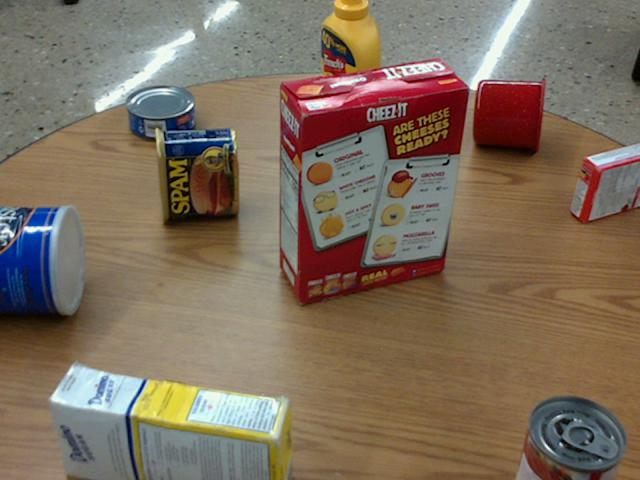cracker_box: (278, 57, 468, 302)
gelatin_box: (571, 144, 639, 223)
master_chef_can: (0, 204, 86, 313)
mug: (473, 75, 544, 151)
mustard_bottle: (319, 0, 378, 144)
potted_meat_can: (154, 126, 237, 220)
sugar_box: (45, 366, 291, 479)
tomato_soup_can: (516, 393, 626, 479)
tuna_fish_can: (126, 83, 195, 139)
